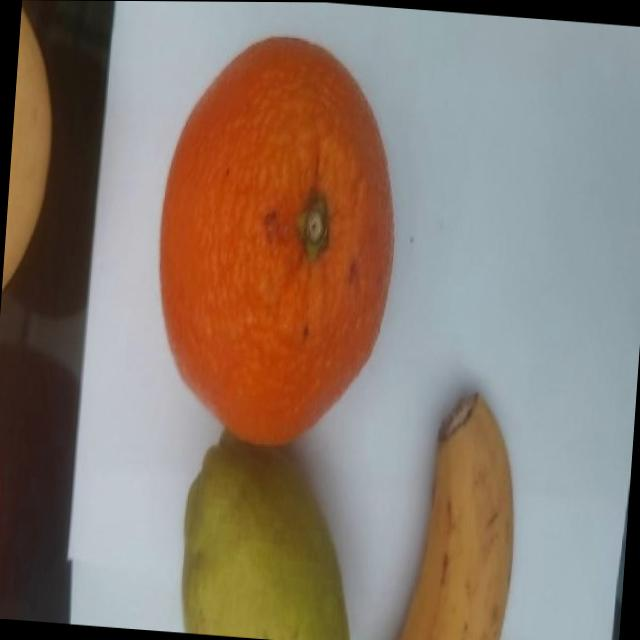Banana: (391, 385, 523, 640)
Orange: (144, 28, 408, 455)
